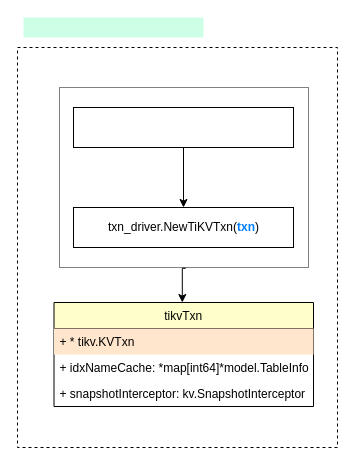
Some shapes in this 355 by 465 pixel diagram are drawn without their labels. Each missing label, with the centre of its shape:
KVStore::Begin -> txn: (183,127)
tikvStroe::begin -> kv.Transaction: (113,27)
